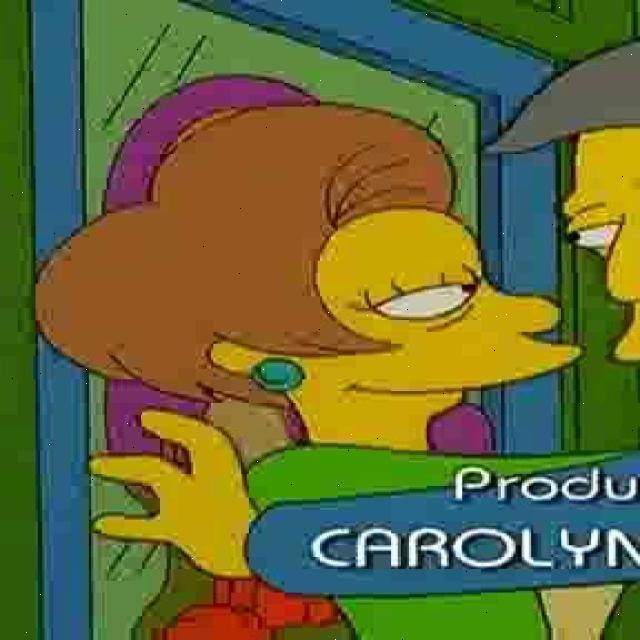Edna Krappel: (30, 102, 592, 450)
